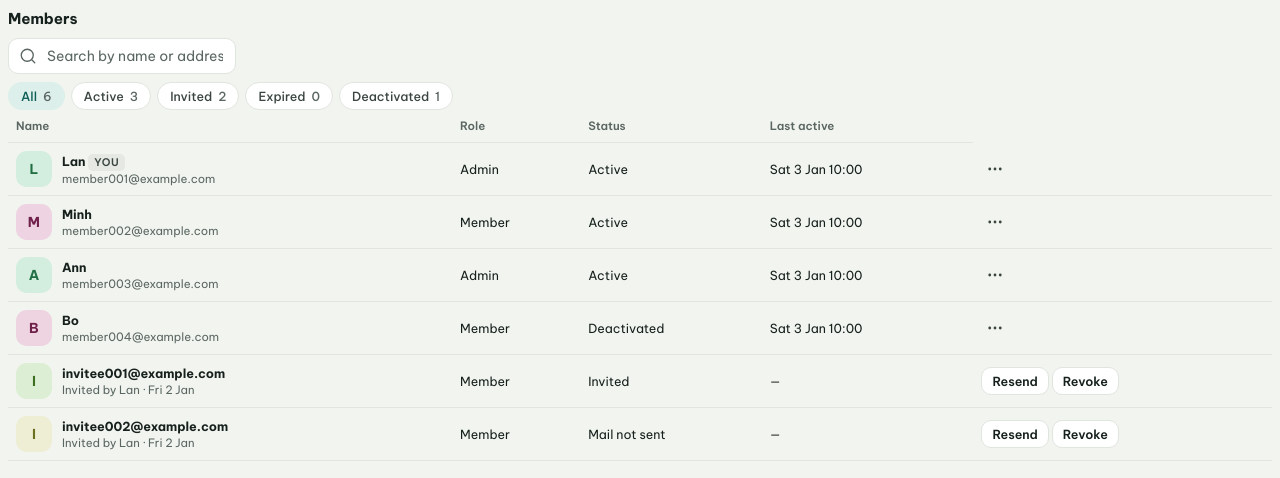
Test: the menu of an account row (R15, R16, R17) › a locked item is reachable by the arrow keys, holds its reason and does nothing when pressed
Later steps or results of the test are not shown.
Click the button named "Actions for Lan": (995, 169) left=981, top=155, right=1009, bottom=183
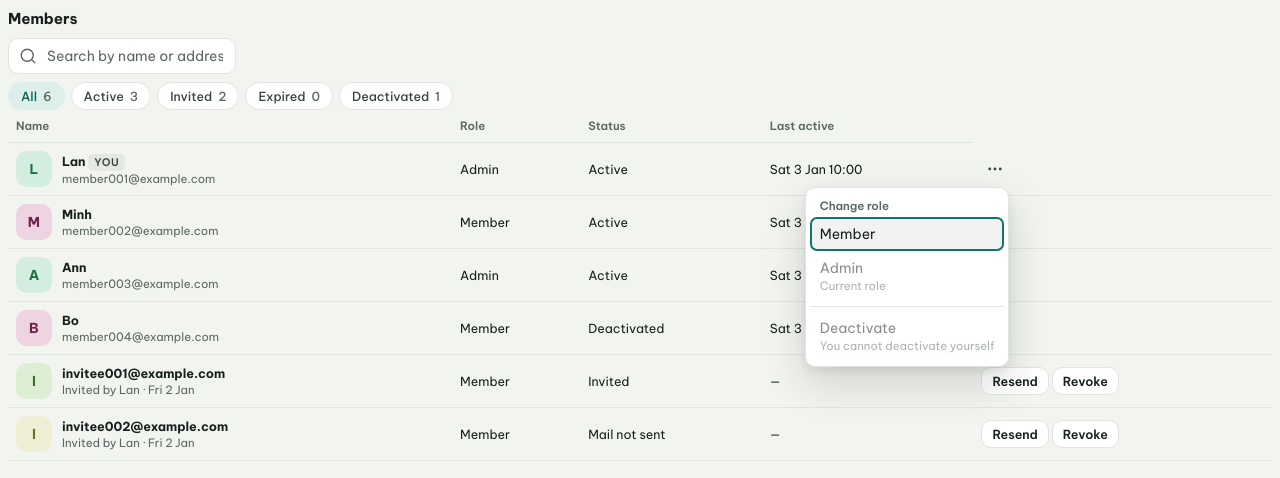
Press Arrowdown
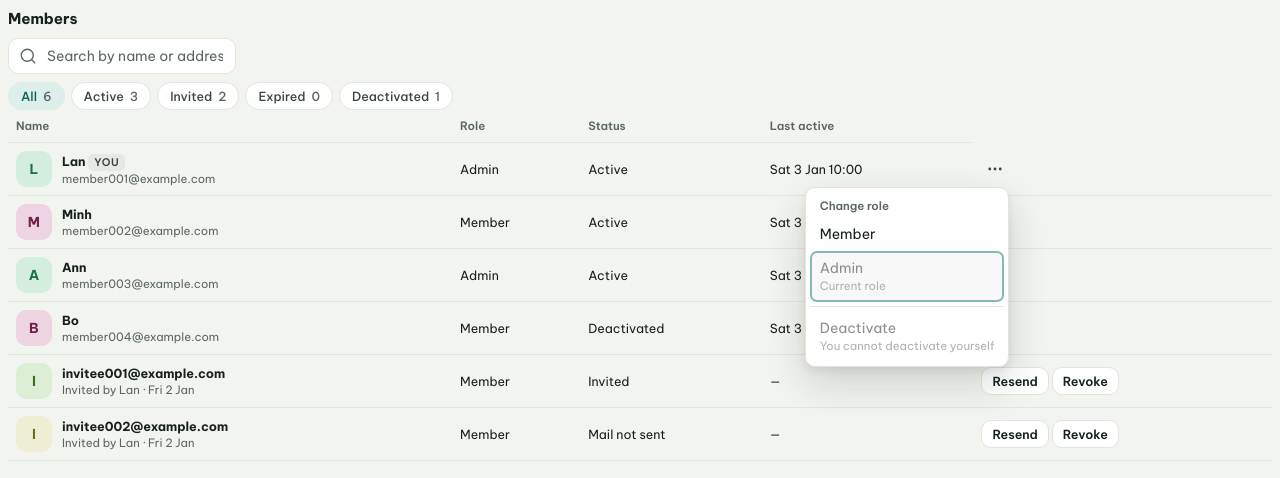
Press Arrowdown
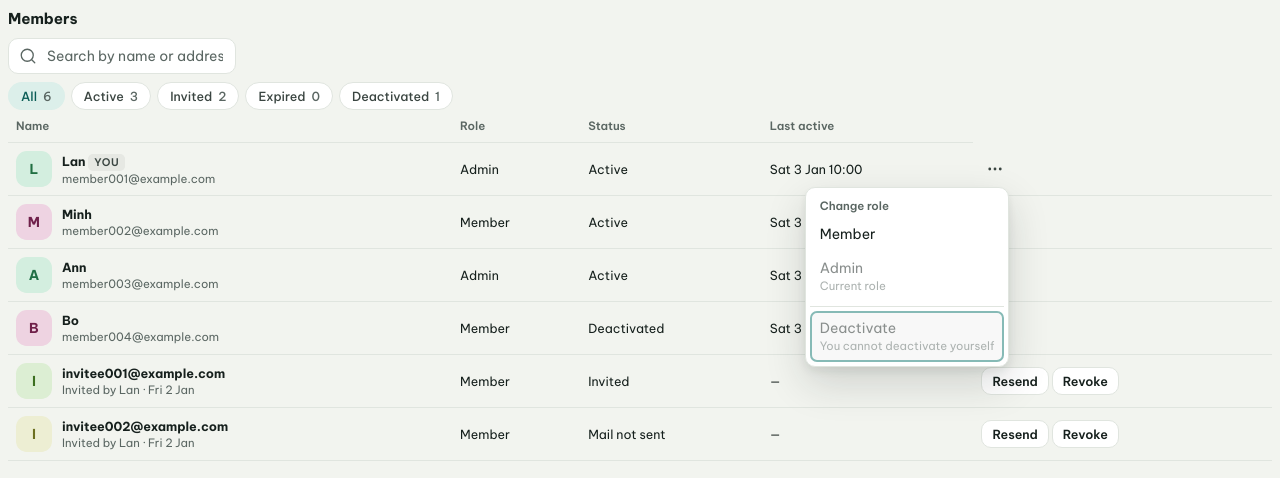
expect the menu item "Deactivate You cannot deactivate yourself" is shown: met, box left=810, top=311, right=1004, bottom=362
